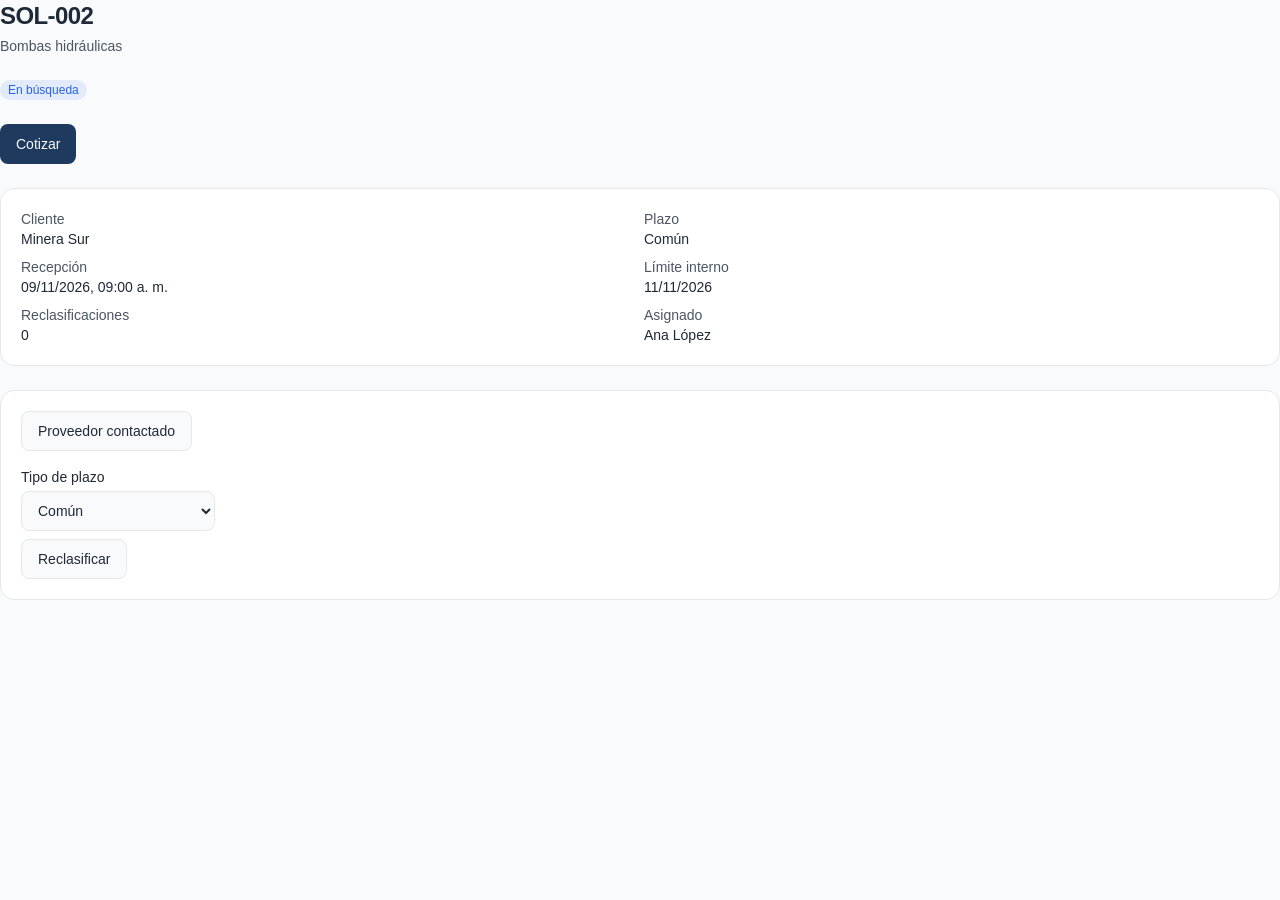
Scenario: SolicitudInternaPage › un 409 muestra el mensaje literal del backend
What coordinates should you click on to do the following:
click the button "Reclasificar"
I would click on:
 (74, 559)
Its box is x1=21 y1=539 x2=127 y2=579.
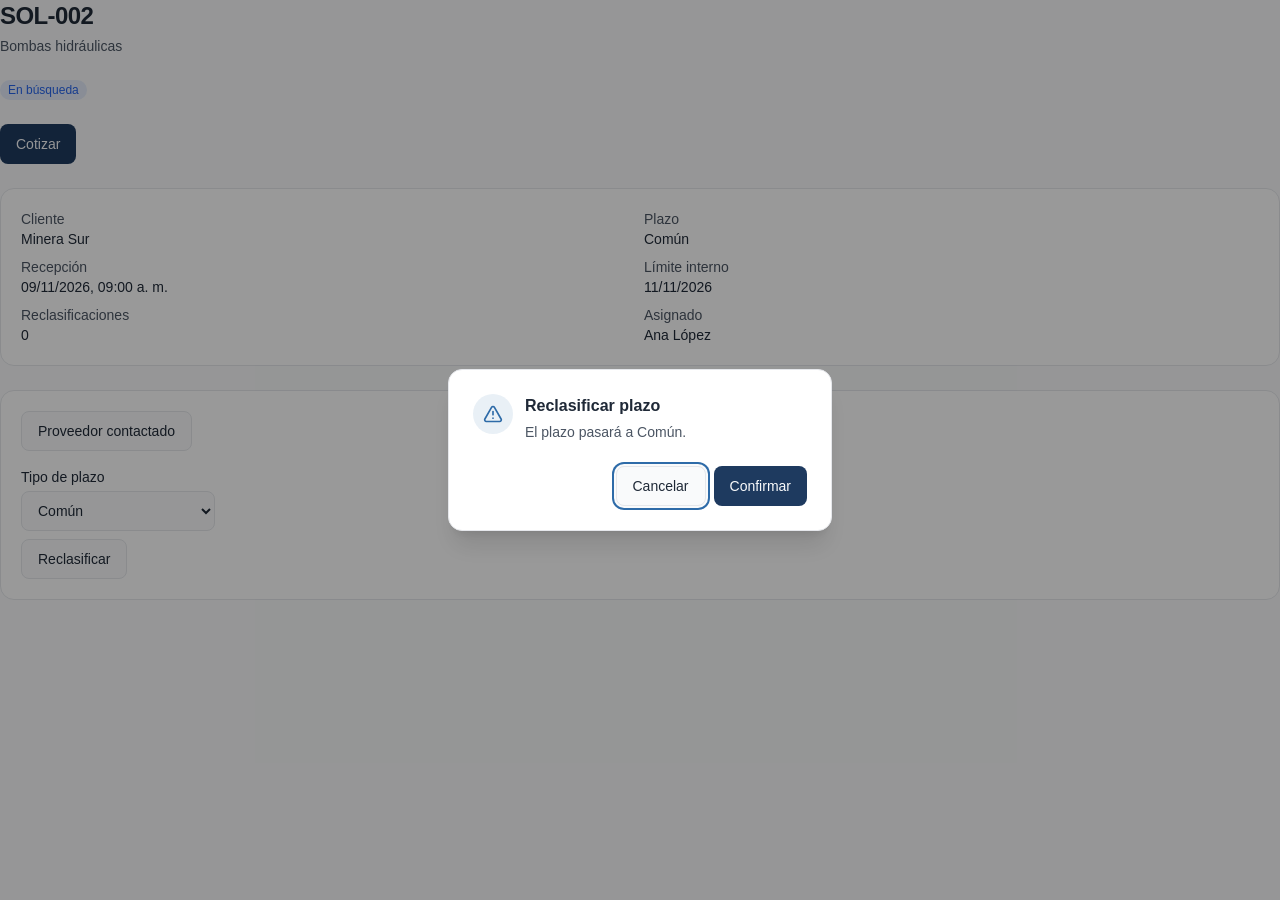
What coordinates should you click on to do the following:
click the button "Confirmar"
I would click on:
 (760, 486)
Its box is x1=714 y1=466 x2=807 y2=506.
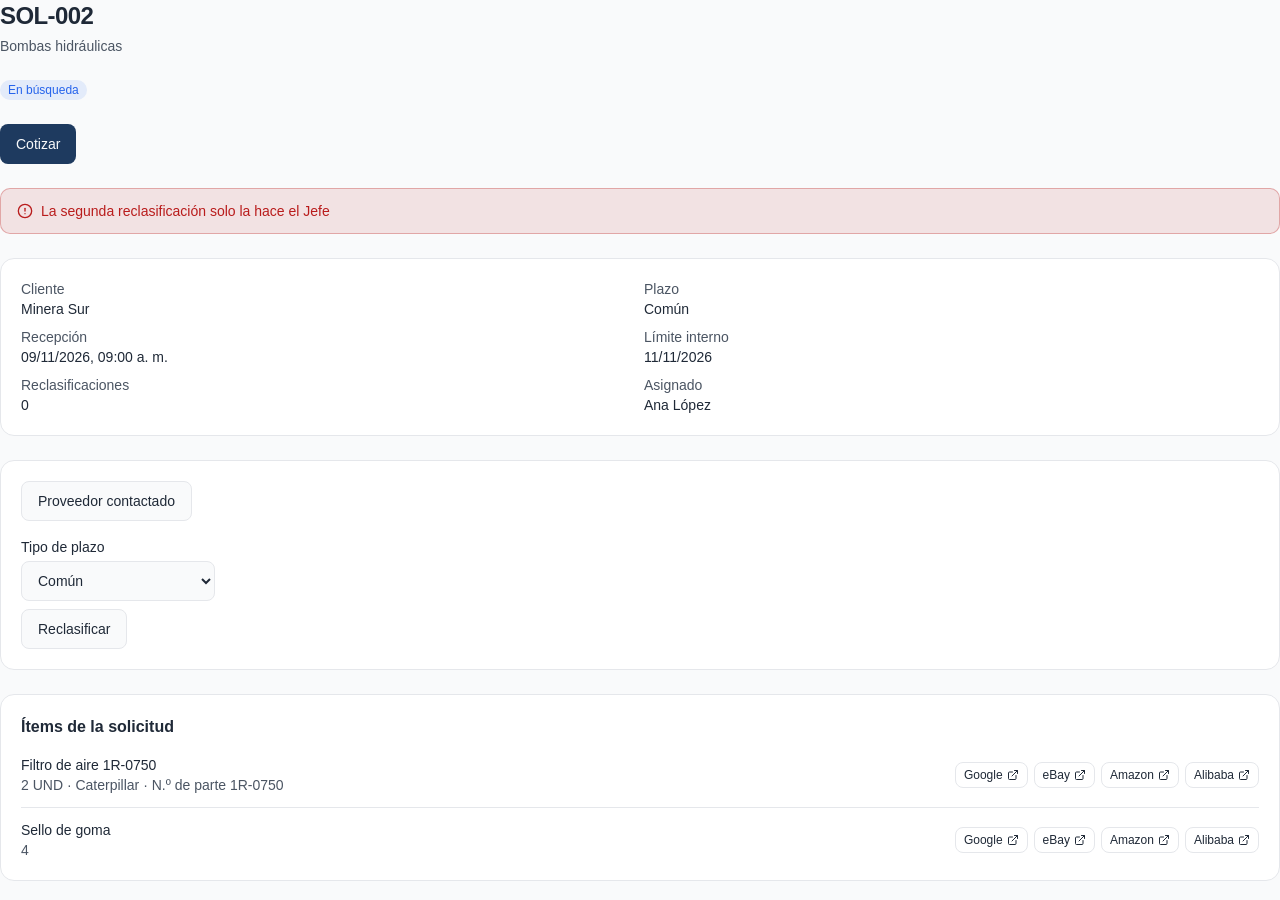
Now the text "La segunda reclasificación solo la hace el Jefe" is shown, box x1=41 y1=201 x2=330 y2=221
